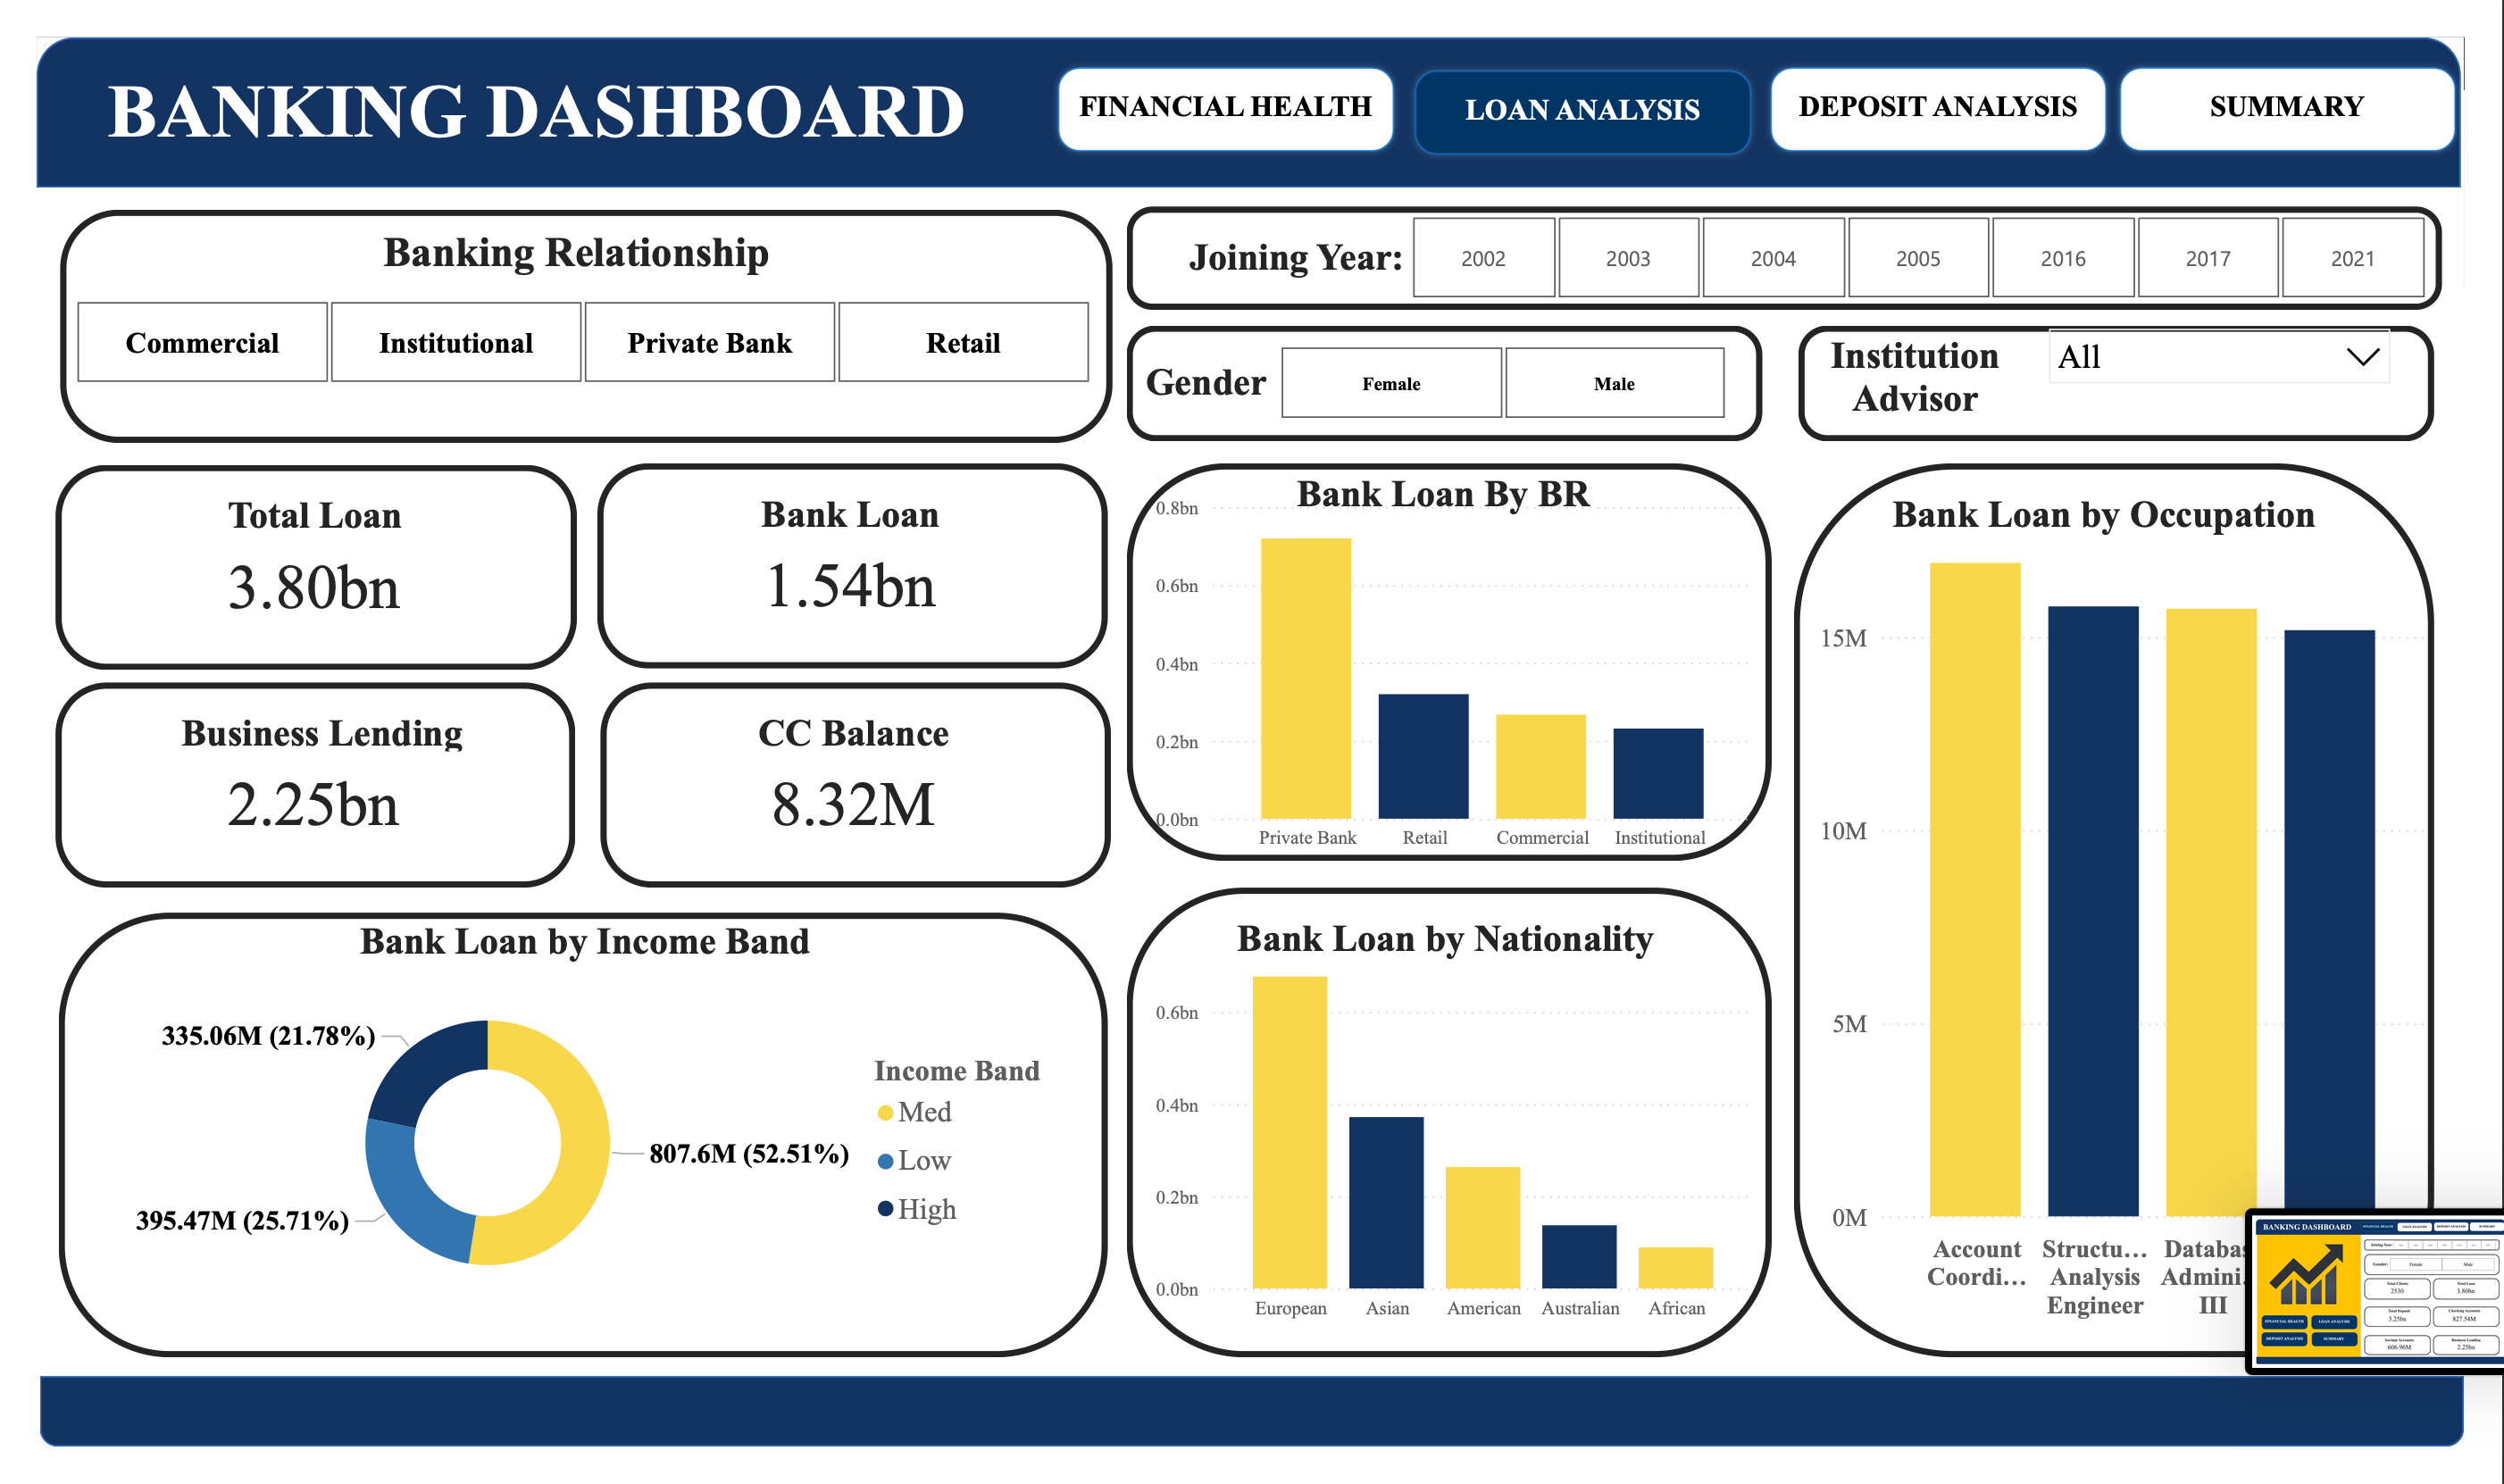

The dashboard page shown, as its layout file describes it:
{"tool":"powerbi","page":{"name":"Loan Analysis","canvas":[1550,900],"ordinal":1},"visuals":[{"type":"shape","box":[0,0,1548.5,95.7],"z":0},{"type":"shape","box":[696.3,108.1,839.8,66.4],"z":1000,"group":"g5"},{"type":"shape","box":[13.9,558.9,670,284.1],"z":1000},{"type":"shape","box":[647.9,14.7,223.9,61.8],"z":2000,"group":"g1"},{"type":"shape","box":[1102.9,15.4,223.9,61.8],"z":2000,"group":"g3"},{"type":"shape","box":[1325.2,15.4,223.9,61.8],"z":2000,"group":"g4"},{"type":"shape","box":[875.9,17,223.9,61.8],"z":2000,"group":"g2"},{"type":"shape","box":[696.3,183.7,406,74.1],"z":2000},{"type":"textbox","box":[0,13.9,639.1,81.8],"z":3000},{"type":"shape","box":[696.3,271.7,412.2,254.7],"z":4000},{"type":"textbox","box":[647.3,27.6,225.4,40.1],"z":5000,"group":"g1"},{"type":"textbox","box":[1102.3,28.3,225.4,40.1],"z":5000,"group":"g3"},{"type":"textbox","box":[1324.6,28.3,225.4,40.1],"z":5000,"group":"g4"},{"type":"textbox","box":[875.3,29.9,225.4,40.1],"z":5000,"group":"g2"},{"type":"shape","box":[12.4,412.2,331.9,131.2],"z":5000},{"type":"shape","box":[358.2,271.7,325.7,131.2],"z":6000,"group":"g7"},{"type":"shape","box":[1122.4,271.7,409.1,571.2],"z":6000},{"type":"shape","box":[12.4,273.3,333.5,131.2],"z":6000,"group":"g6"},{"type":"shape","box":[359.7,412.2,325.7,131.2],"z":6000,"group":"g8"},{"type":"shape","box":[696.3,543.4,412.2,299.5],"z":7000},{"type":"textbox","box":[210,117.3,270.2,50.9],"z":8000},{"type":"textbox","box":[35.5,558.9,629.9,44.8],"z":9000},{"type":"textbox","box":[727.1,273.3,342.7,43.2],"z":10000},{"type":"textbox","box":[44.8,426.1,274.8,38.6],"z":11000},{"type":"cardVisual","fields":{"Data":["Sum(risk_analysis client_data.business_lending)"]},"box":[57.1,450.8,239.9,75.6],"z":12000},{"type":"shape","box":[1.5,855.3,1548.5,44.8],"z":13000},{"type":"group","id":"g1","title":"Group 1","box":[647.3,14.7,225.4,61.8],"z":14000},{"type":"group","id":"g2","title":"Group 1","box":[875.3,17,225.4,61.8],"z":15000},{"type":"group","id":"g3","title":"Group 1","box":[1102.3,15.4,225.4,61.8],"z":16000},{"type":"group","id":"g4","title":"Group 1","box":[1324.6,15.4,225.4,61.8],"z":17000},{"type":"textbox","box":[443.8,285.4,152.3,43.3],"z":17000,"group":"g7"},{"type":"textbox","box":[100,287,155.9,43.3],"z":17000,"group":"g6"},{"type":"textbox","box":[445.3,425.9,152.3,43.3],"z":17000,"group":"g8"},{"type":"textbox","box":[727.2,122,155.9,40.1],"z":18000,"group":"g5"},{"type":"slicer","fields":{"Values":["risk_analysis client_data.brid"]},"box":[0,162.1,696.3,64.8],"z":18000},{"type":"shape","box":[15.4,109.6,671.6,149.8],"z":19000},{"type":"group","id":"g5","title":"Group 2","box":[696.3,108.1,852.2,66.4],"z":20000},{"type":"shape","box":[1125.4,183.7,406,74.1],"z":21000},{"type":"cardVisual","fields":{"Data":["Sum(risk_analysis client_data.bank_loans)"]},"box":[402.1,310.3,235.5,75.6],"z":21000,"group":"g7"},{"type":"cardVisual","fields":{"Data":["risk_analysis client_data.TOTOAL LOAN"]},"box":[57.4,311.9,241,75.6],"z":21000,"group":"g6"},{"type":"cardVisual","fields":{"Data":["Sum(risk_analysis client_data.credit_card_balance)"]},"box":[403.6,450.8,235.5,75.6],"z":21000,"group":"g8"},{"type":"group","id":"g6","title":"Group 3","box":[12.4,273.3,333.5,131.2],"z":22000},{"type":"group","id":"g7","title":"Group 3","box":[358.2,271.7,325.7,131.2],"z":23000},{"type":"group","id":"g8","title":"Group 3","box":[359.7,412.2,325.7,131.2],"z":24000},{"type":"textbox","box":[728.7,557.3,342.7,43.2],"z":25000},{"type":"textbox","box":[1167.1,285.6,307.2,43.2],"z":26000},{"type":"textbox","box":[696.3,202.2,101.9,44.8],"z":27000},{"type":"slicer","fields":{"Values":["risk_analysis client_data.genderid"]},"box":[768.8,191.4,333.5,58.7],"z":28000},{"type":"textbox","box":[1102.3,185.3,196.1,75.6],"z":29000},{"type":"slicer","fields":{"Values":["risk_analysis client_data.iaid"]},"box":[1275.2,174.5,237.7,75.6],"z":30000},{"type":"donutChart","fields":{"Category":["risk_analysis client_data.Income Band"],"Y":["Sum(risk_analysis client_data.bank_loans)"]},"box":[35.5,600.5,629.9,210],"z":31000},{"type":"clusteredColumnChart","fields":{"Category":["risk_analysis client_data.brid"],"Y":["Sum(risk_analysis client_data.bank_loans)"]},"box":[710.2,285.6,392.1,240.8],"z":32000},{"type":"slicer","fields":{"Values":["risk_analysis client_data.YEAR OF JOINING"]},"box":[853,108.4,696.3,64.8],"z":32001,"group":"g5"},{"type":"clusteredColumnChart","fields":{"Category":["risk_analysis client_data.nationality"],"Y":["Sum(risk_analysis client_data.bank_loans)"]},"box":[710.2,578.9,392.1,247],"z":33000},{"type":"clusteredColumnChart","fields":{"Category":["risk_analysis client_data.occupation"],"Y":["Sum(risk_analysis client_data.bank_loans)"]},"box":[1133.2,294.9,398.3,531.1],"z":34000},{"type":"actionButton","box":[1103.8,13.9,223.9,63.3],"z":35000},{"type":"actionButton","box":[646.9,13.9,223.9,63.3],"z":36000},{"type":"actionButton","box":[1326.1,15.4,223.9,63.3],"z":37000}]}

Visuals, with their boxes in screenshot pixels (x1, y1, x2, y2), scaled from the page's 1550x900 canvas onto the 2504x1484 screenshot:
shape: x1=0 y1=0 x2=2501 y2=158
shape: x1=1125 y1=179 x2=2482 y2=288
shape: x1=22 y1=921 x2=1105 y2=1390
shape: x1=1047 y1=24 x2=1408 y2=126
shape: x1=1782 y1=25 x2=2143 y2=128
shape: x1=2141 y1=25 x2=2502 y2=128
shape: x1=1415 y1=28 x2=1777 y2=130
shape: x1=1125 y1=303 x2=1781 y2=425
textbox: x1=0 y1=23 x2=1032 y2=158
shape: x1=1125 y1=448 x2=1790 y2=868
textbox: x1=1046 y1=46 x2=1410 y2=112
textbox: x1=1781 y1=46 x2=2145 y2=113
textbox: x1=2140 y1=46 x2=2503 y2=113
textbox: x1=1414 y1=49 x2=1778 y2=115
shape: x1=20 y1=679 x2=556 y2=896
shape: x1=579 y1=448 x2=1105 y2=664
shape: x1=1813 y1=448 x2=2475 y2=1390
shape: x1=20 y1=451 x2=559 y2=667
shape: x1=581 y1=679 x2=1107 y2=896
shape: x1=1125 y1=896 x2=1790 y2=1390
textbox: x1=339 y1=194 x2=776 y2=278
textbox: x1=57 y1=921 x2=1075 y2=996
textbox: x1=1174 y1=451 x2=1728 y2=521
textbox: x1=72 y1=703 x2=516 y2=766
cardVisual - Sum(risk_analysis client_data.business_lending): x1=92 y1=743 x2=480 y2=868
shape: x1=3 y1=1410 x2=2503 y2=1483
"Group 1" group: x1=1046 y1=24 x2=1410 y2=126
"Group 1" group: x1=1414 y1=28 x2=1778 y2=130
"Group 1" group: x1=1781 y1=25 x2=2145 y2=128
"Group 1" group: x1=2140 y1=25 x2=2503 y2=128
textbox: x1=717 y1=471 x2=963 y2=542
textbox: x1=162 y1=473 x2=413 y2=545
textbox: x1=720 y1=702 x2=965 y2=773
textbox: x1=1175 y1=201 x2=1427 y2=267
slicer - risk_analysis client_data.brid: x1=0 y1=267 x2=1125 y2=374
shape: x1=25 y1=180 x2=1110 y2=428
"Group 2" group: x1=1125 y1=179 x2=2501 y2=288
shape: x1=1818 y1=303 x2=2474 y2=425
cardVisual - Sum(risk_analysis client_data.bank_loans): x1=649 y1=512 x2=1030 y2=637
cardVisual - risk_analysis client_data.TOTOAL LOAN: x1=93 y1=514 x2=482 y2=639
cardVisual - Sum(risk_analysis client_data.credit_card_balance): x1=652 y1=743 x2=1032 y2=868
"Group 3" group: x1=20 y1=451 x2=559 y2=667
"Group 3" group: x1=579 y1=448 x2=1105 y2=664
"Group 3" group: x1=581 y1=679 x2=1107 y2=896
textbox: x1=1177 y1=919 x2=1731 y2=990
textbox: x1=1885 y1=471 x2=2382 y2=542
textbox: x1=1125 y1=333 x2=1290 y2=407
slicer - risk_analysis client_data.genderid: x1=1242 y1=315 x2=1781 y2=413
textbox: x1=1781 y1=305 x2=2098 y2=430
slicer - risk_analysis client_data.iaid: x1=2060 y1=288 x2=2444 y2=413
donutChart - risk_analysis client_data.Income Band x Sum(risk_analysis client_data.bank_loans): x1=57 y1=990 x2=1075 y2=1337
clusteredColumnChart - risk_analysis client_data.brid x Sum(risk_analysis client_data.bank_loans): x1=1148 y1=471 x2=1781 y2=868
slicer - risk_analysis client_data.YEAR OF JOINING: x1=1378 y1=179 x2=2503 y2=286
clusteredColumnChart - risk_analysis client_data.nationality x Sum(risk_analysis client_data.bank_loans): x1=1148 y1=955 x2=1781 y2=1362
clusteredColumnChart - risk_analysis client_data.occupation x Sum(risk_analysis client_data.bank_loans): x1=1831 y1=487 x2=2475 y2=1362
actionButton: x1=1783 y1=23 x2=2145 y2=128
actionButton: x1=1045 y1=23 x2=1406 y2=128
actionButton: x1=2142 y1=25 x2=2503 y2=129
